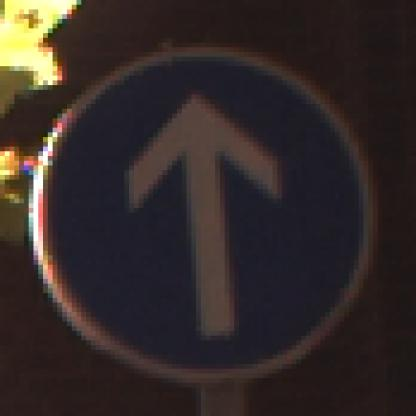AheadOnly: (39, 39, 379, 379)
